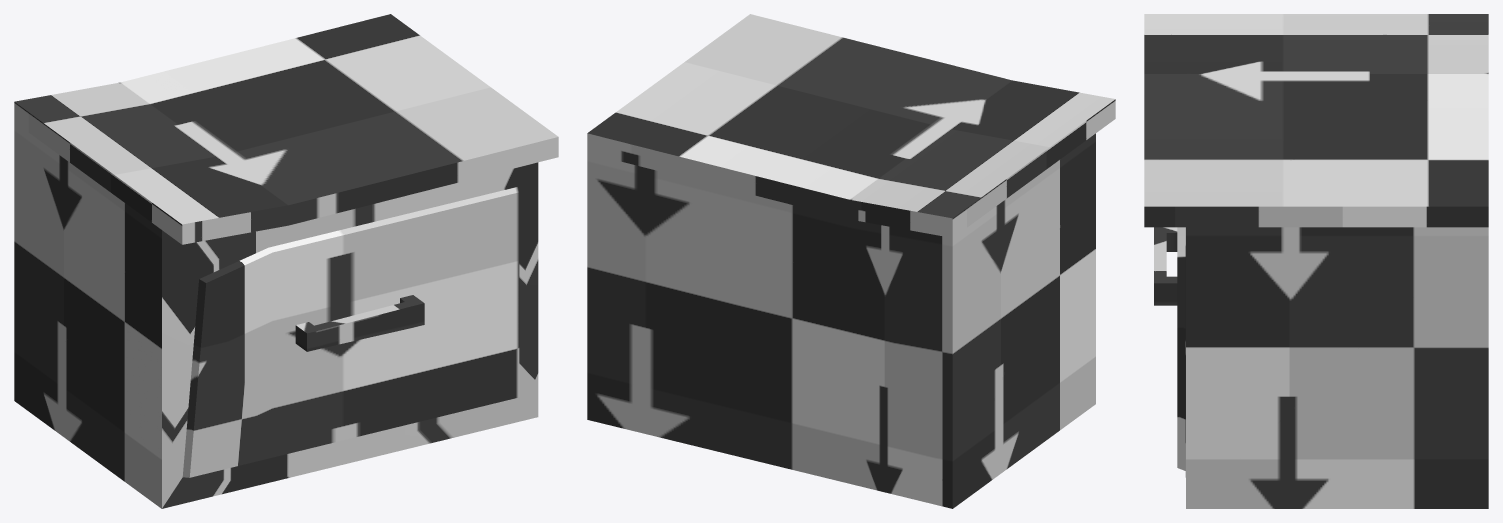
The model's file is SM_Counter_01.fbx.
3 views of the same model, side by side, from view 1: azimuth 30°, elevation 25°; view 2: azimuth 150°, elevation 25°; view 3: azimuth 270°, elevation 25° (orthographic). The views are drawn at different scales.
Parts seen in each view (by area): view 1: SM_Counter_01.001; view 2: SM_Counter_01.001; view 3: SM_Counter_01.001.
Part boxes in pixels (x1=…): SM_Counter_01.001: x1=14, y1=14, x2=558, y2=508; SM_Counter_01.001: x1=587, y1=14, x2=1115, y2=508; SM_Counter_01.001: x1=1144, y1=14, x2=1488, y2=508.
Bounding box in the file's own units: 0.6278 × 0.8129 × 0.6175.
Materials: 1 (1 with a texture image).
